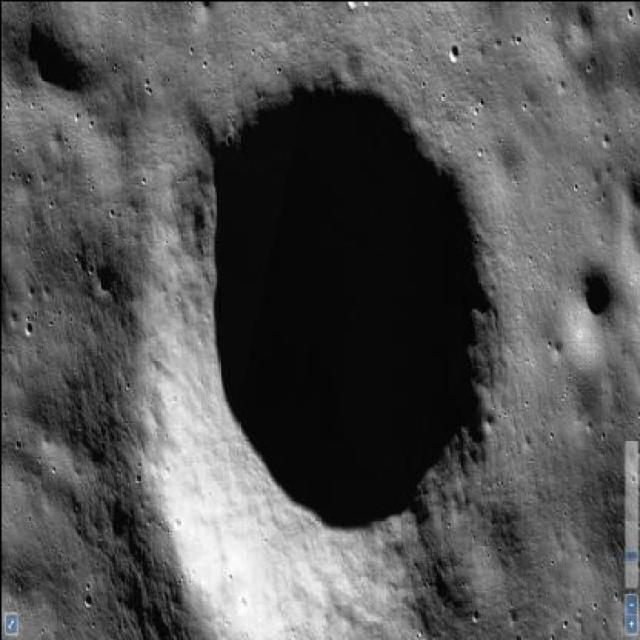crater: (168, 80, 497, 580), (568, 258, 615, 336)
